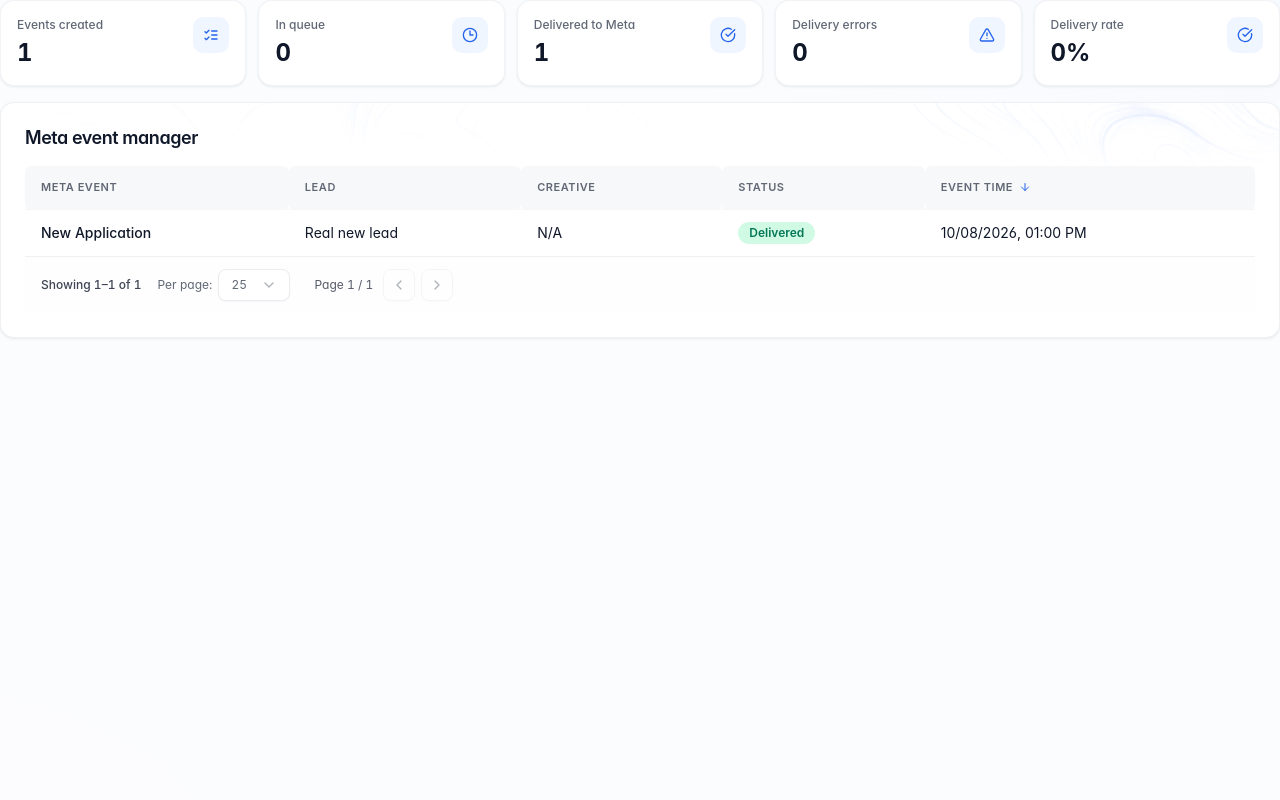
Test: Meta creation events › does not allow retrying sent events
Click the text "Real new lead" at point(351, 232), box [289, 210, 521, 256]
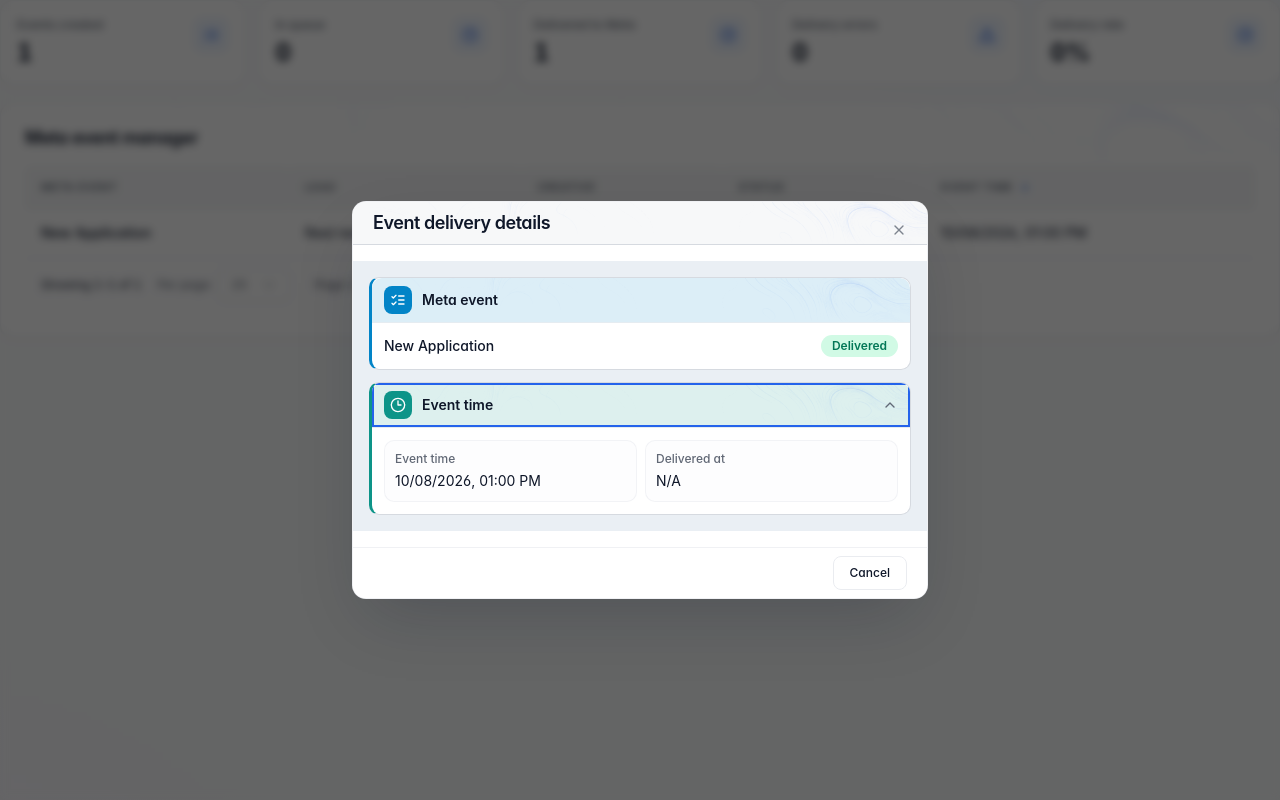
Now the text "Delivered" is shown, box [821, 335, 898, 357]
